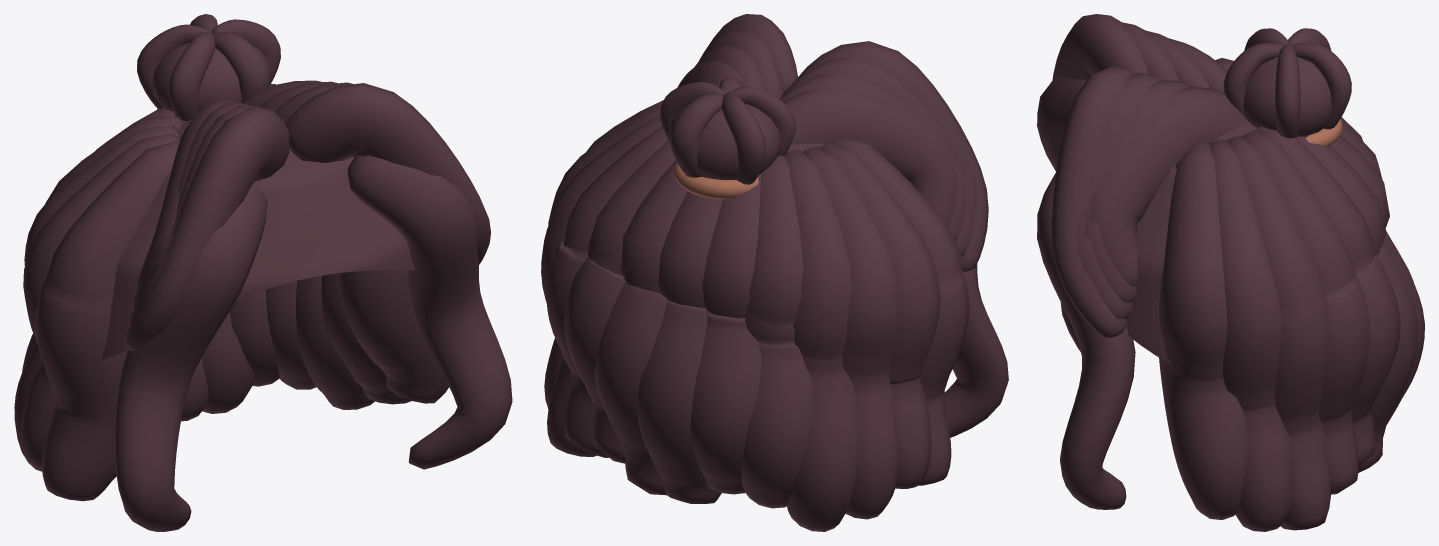
Rendered from studio_half_bun_short.glb.
3 renders of one model, left to right at view 1: azimuth 30°, elevation 25°; view 2: azimuth 150°, elevation 25°; view 3: azimuth 270°, elevation 25°, orthographic. The views are drawn at different scales.
Visible parts, largest first — view 1: half_bun; view 2: half_bun; view 3: half_bun.
Boxes of the visible parts, left/top/right/bottom form: half_bun: left=14, top=14, right=512, bottom=531; half_bun: left=541, top=14, right=1008, bottom=531; half_bun: left=1037, top=14, right=1424, bottom=531.
Size of the model in its own units: 0.5843 by 0.5537 by 0.4657.
